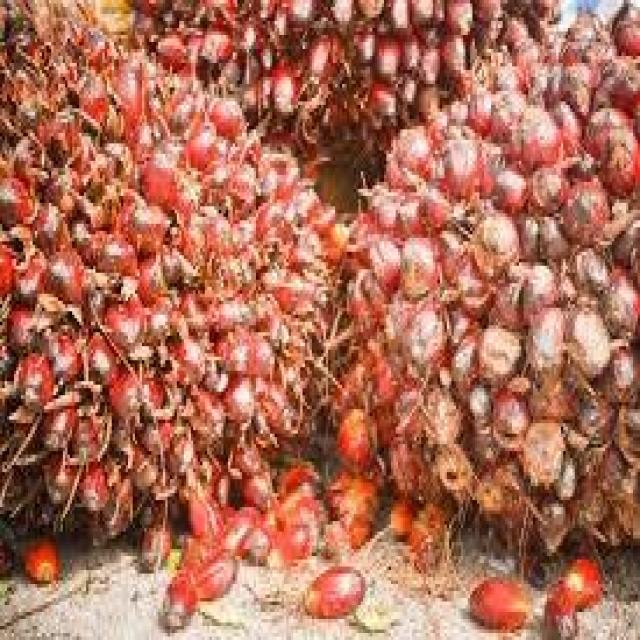Ripefruit: (0, 33, 333, 576), (333, 54, 640, 540), (132, 0, 558, 147)
